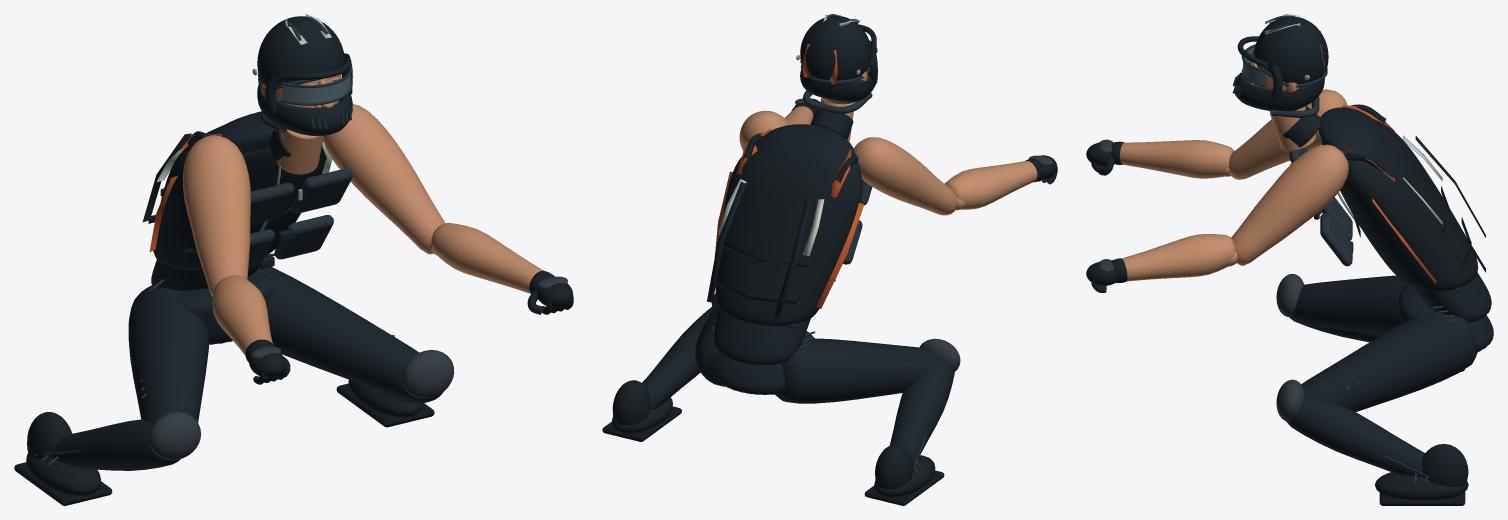
The model's file is Coastal Rider.glb.
3 renders of one model, left to right at view 1: azimuth 30°, elevation 25°; view 2: azimuth 150°, elevation 25°; view 3: azimuth 270°, elevation 25°, orthographic. The views are drawn at different scales.
Parts seen in each view (by area): view 1: Contoured thigh.001, Contoured thigh, Sculpted deltoid biceps and triceps, Sculpted deltoid biceps and triceps.001, 02 / Fitted flotation vest, Shin and calf, Anatomical forearm and wrist.001, 05 / Composite race helmet shell, Anatomical forearm and wrist, 01 / Anatomical wetsuit torso, 06 / Protective sculpted chin bar, Knee abrasion pad.001 (+15 smaller); view 2: 02 / Fitted flotation vest, Contoured thigh, 01 / Anatomical wetsuit torso, Sculpted deltoid biceps and triceps, 05 / Composite race helmet shell, Shin and calf, Anatomical forearm and wrist, Shin and calf.001, 03 / Hip and seat fabric, Boot ankle, Boot ankle.001, 06 / Protective sculpted chin bar (+12 smaller); view 3: 02 / Fitted flotation vest, Contoured thigh.001, Sculpted deltoid biceps and triceps.001, Contoured thigh, Shin and calf.001, 01 / Anatomical wetsuit torso, Anatomical forearm and wrist.001, 05 / Composite race helmet shell, Anatomical forearm and wrist, Sculpted deltoid biceps and triceps, 06 / Protective sculpted chin bar, Molded watersport boot.001 (+11 smaller).
Part boxes in pixels (box(x1,y1,x2,y2)): Contoured thigh.001: box(255, 267, 419, 399); Contoured thigh: box(128, 284, 209, 423); Sculpted deltoid biceps and triceps: box(183, 135, 250, 296); Sculpted deltoid biceps and triceps.001: box(322, 104, 445, 254); 02 / Fitted flotation vest: box(153, 125, 326, 270); Shin and calf: box(52, 419, 180, 470); Anatomical forearm and wrist.001: box(431, 223, 542, 293); 05 / Composite race helmet shell: box(257, 16, 344, 85); Anatomical forearm and wrist: box(212, 275, 272, 355); 01 / Anatomical wetsuit torso: box(151, 111, 274, 290); 06 / Protective sculpted chin bar: box(257, 84, 352, 135); Knee abrasion pad.001: box(401, 350, 454, 398); 02 / Fitted flotation vest: box(715, 151, 862, 326); Contoured thigh: box(775, 338, 937, 403); 01 / Anatomical wetsuit torso: box(713, 124, 860, 365); Sculpted deltoid biceps and triceps: box(854, 137, 957, 215); 05 / Composite race helmet shell: box(800, 15, 871, 80); Shin and calf: box(890, 356, 954, 465); Anatomical forearm and wrist: box(944, 161, 1037, 209); Shin and calf.001: box(642, 304, 717, 410); 03 / Hip and seat fabric: box(710, 331, 814, 394); Boot ankle: box(875, 444, 913, 489); Boot ankle.001: box(612, 380, 650, 425); 06 / Protective sculpted chin bar: box(800, 70, 877, 102); 02 / Fitted flotation vest: box(1321, 119, 1478, 291); Contoured thigh.001: box(1301, 311, 1477, 411); Sculpted deltoid biceps and triceps.001: box(1231, 144, 1348, 265); Contoured thigh: box(1292, 275, 1407, 334); Shin and calf.001: box(1286, 396, 1425, 477); 01 / Anatomical wetsuit torso: box(1318, 107, 1491, 322); Anatomical forearm and wrist.001: box(1122, 234, 1235, 281); 05 / Composite race helmet shell: box(1254, 16, 1328, 84); Anatomical forearm and wrist: box(1120, 140, 1234, 178); Sculpted deltoid biceps and triceps: box(1229, 89, 1347, 179); 06 / Protective sculpted chin bar: box(1235, 73, 1324, 111); Molded watersport boot.001: box(1375, 472, 1468, 500).
Bounding box in the file's own units: 1.16 × 1.43 × 1.28.
